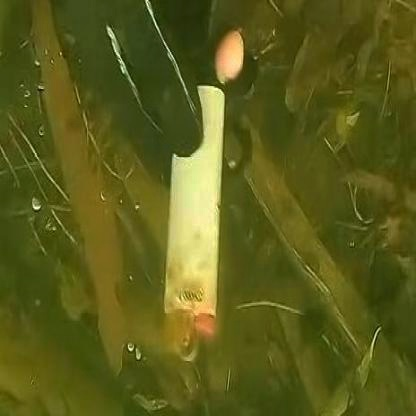misc: (167, 41, 217, 374)
